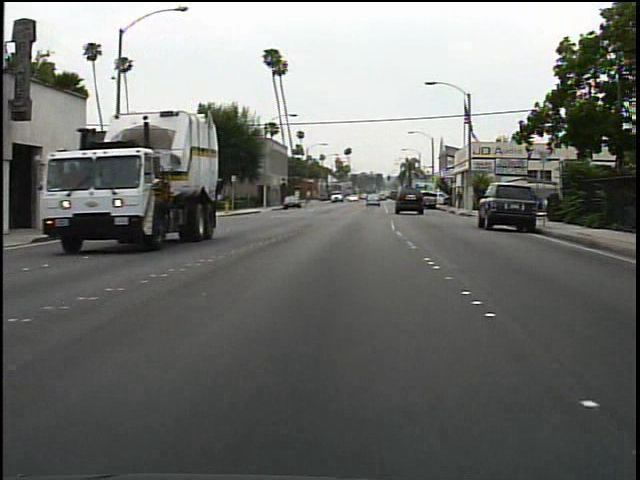person: (450, 186, 467, 214)
